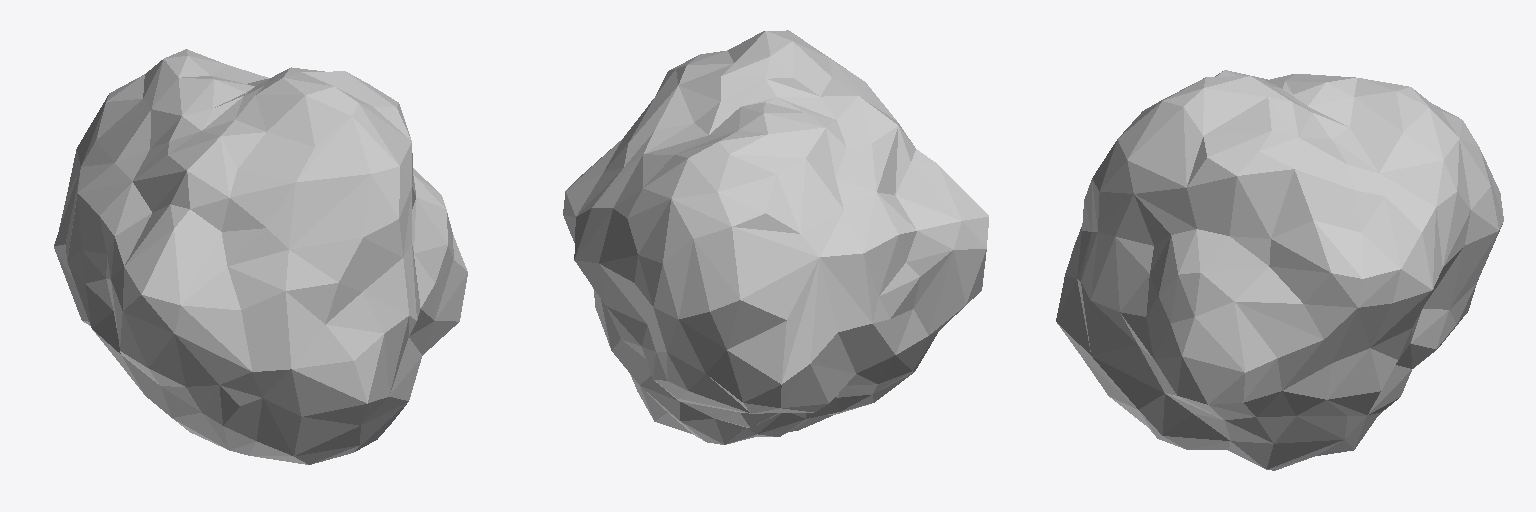
Rendered from asteroid.obj.
3 views of the same model, side by side, from view 1: azimuth 30°, elevation 25°; view 2: azimuth 150°, elevation 25°; view 3: azimuth 270°, elevation 25° (orthographic).
Visible parts, largest first — view 1: Sphere; view 2: Sphere; view 3: Sphere.
Boxes of the visible parts, x1=… form: Sphere: x1=54, y1=49, x2=467, y2=464; Sphere: x1=563, y1=30, x2=988, y2=444; Sphere: x1=1056, y1=70, x2=1503, y2=470.
Size of the model in its own units: 1.99 by 2.02 by 2.19.